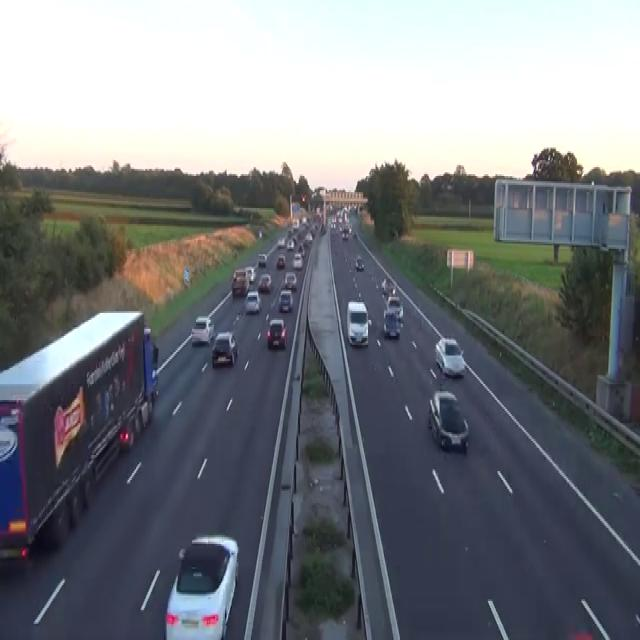Car: (164, 534, 239, 638), (428, 389, 468, 454), (435, 336, 465, 377), (346, 300, 369, 346), (211, 331, 237, 366), (190, 316, 214, 345), (266, 318, 286, 348), (231, 268, 249, 297), (383, 309, 400, 338), (118, 423, 134, 450), (386, 295, 403, 320), (245, 290, 261, 313), (278, 288, 293, 311), (565, 626, 593, 638), (258, 272, 271, 293), (284, 272, 297, 290), (245, 265, 256, 283), (292, 252, 303, 268), (234, 268, 247, 281), (355, 254, 364, 270), (257, 252, 267, 266), (276, 254, 285, 268), (297, 244, 305, 258), (304, 231, 312, 245), (381, 278, 387, 294), (291, 217, 299, 229), (286, 238, 294, 249), (277, 237, 285, 247), (342, 228, 348, 240), (320, 222, 326, 233), (390, 286, 396, 295), (330, 219, 335, 229), (258, 228, 262, 238), (348, 224, 352, 233), (302, 217, 307, 224), (301, 194, 305, 201), (329, 204, 332, 212)
Truck: (0, 308, 159, 567)
